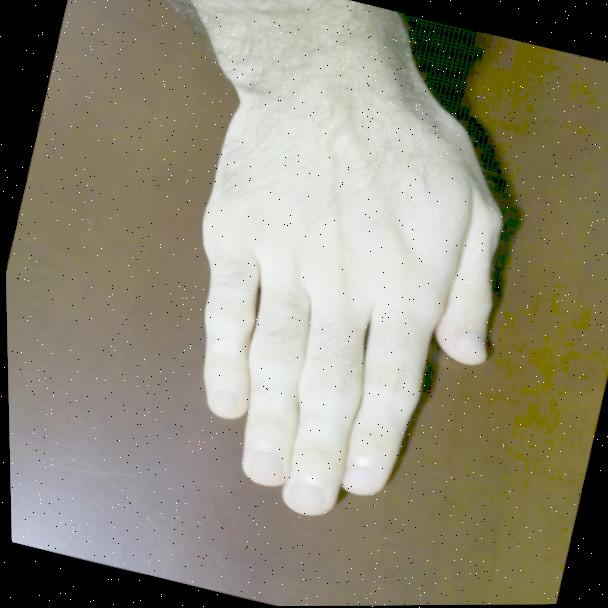five: (132, 27, 556, 557)
